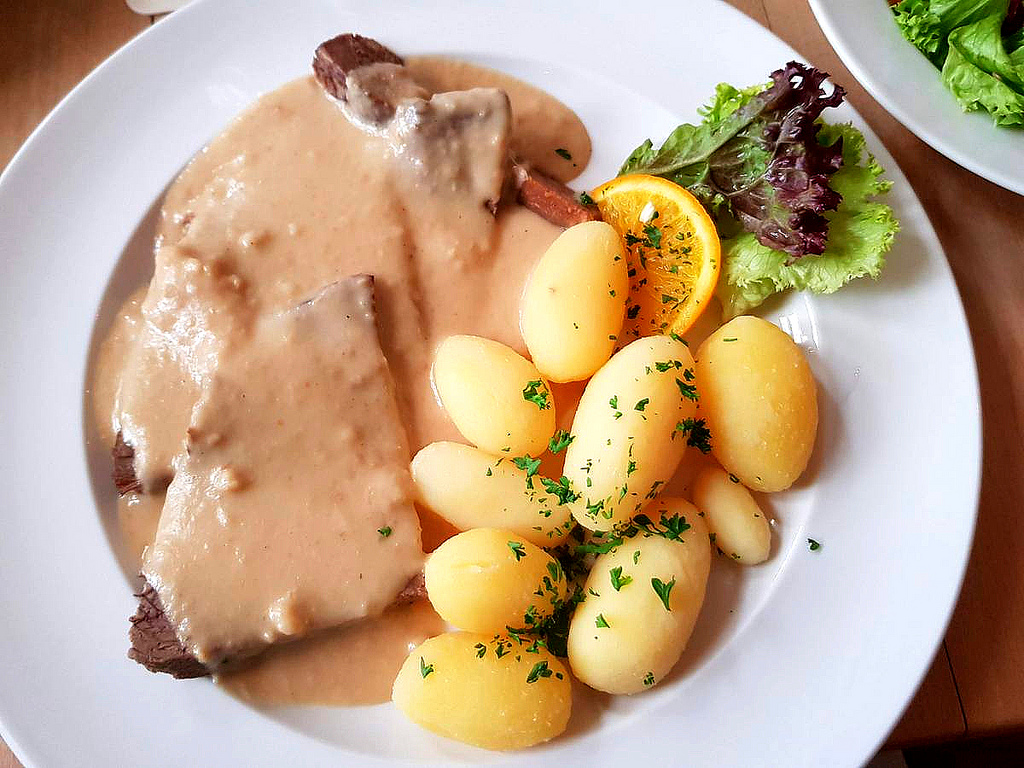boiled potatoes: (583, 479, 708, 708), (686, 317, 829, 492), (579, 328, 679, 515), (408, 444, 583, 545), (519, 219, 630, 378), (397, 638, 574, 735), (431, 533, 577, 634), (435, 332, 555, 454), (684, 457, 780, 561)
chopped lettuce: (637, 65, 906, 295), (897, 2, 1020, 122)
